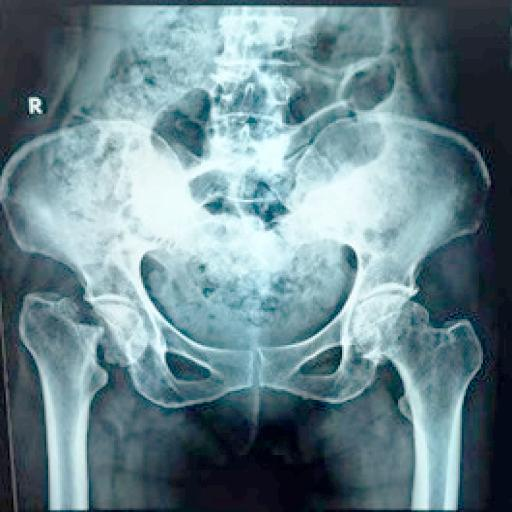neck: (18, 291, 108, 454), (89, 304, 149, 367)
normal: (354, 294, 483, 471)
